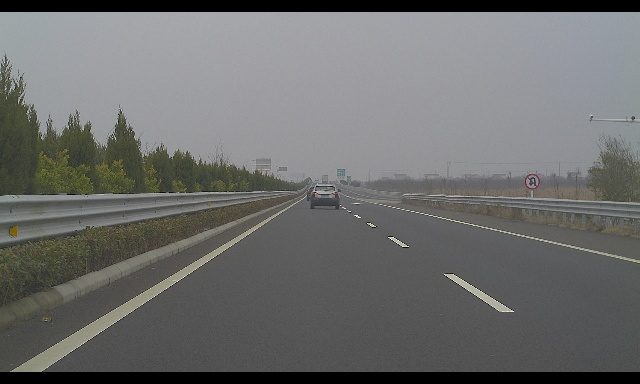car: (309, 183, 341, 209), (307, 187, 322, 201)
